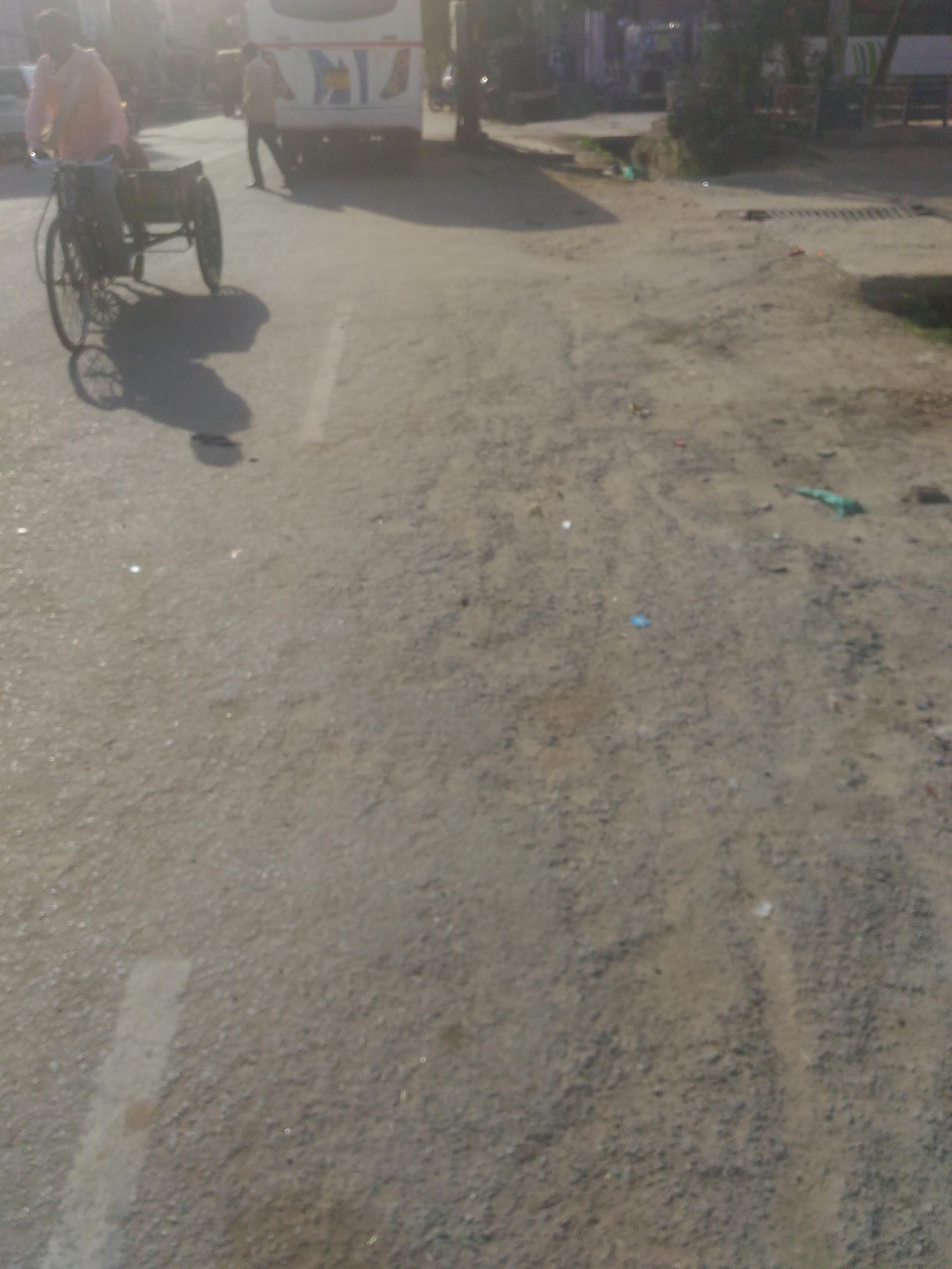non-ambulance: (187, 0, 447, 178)
